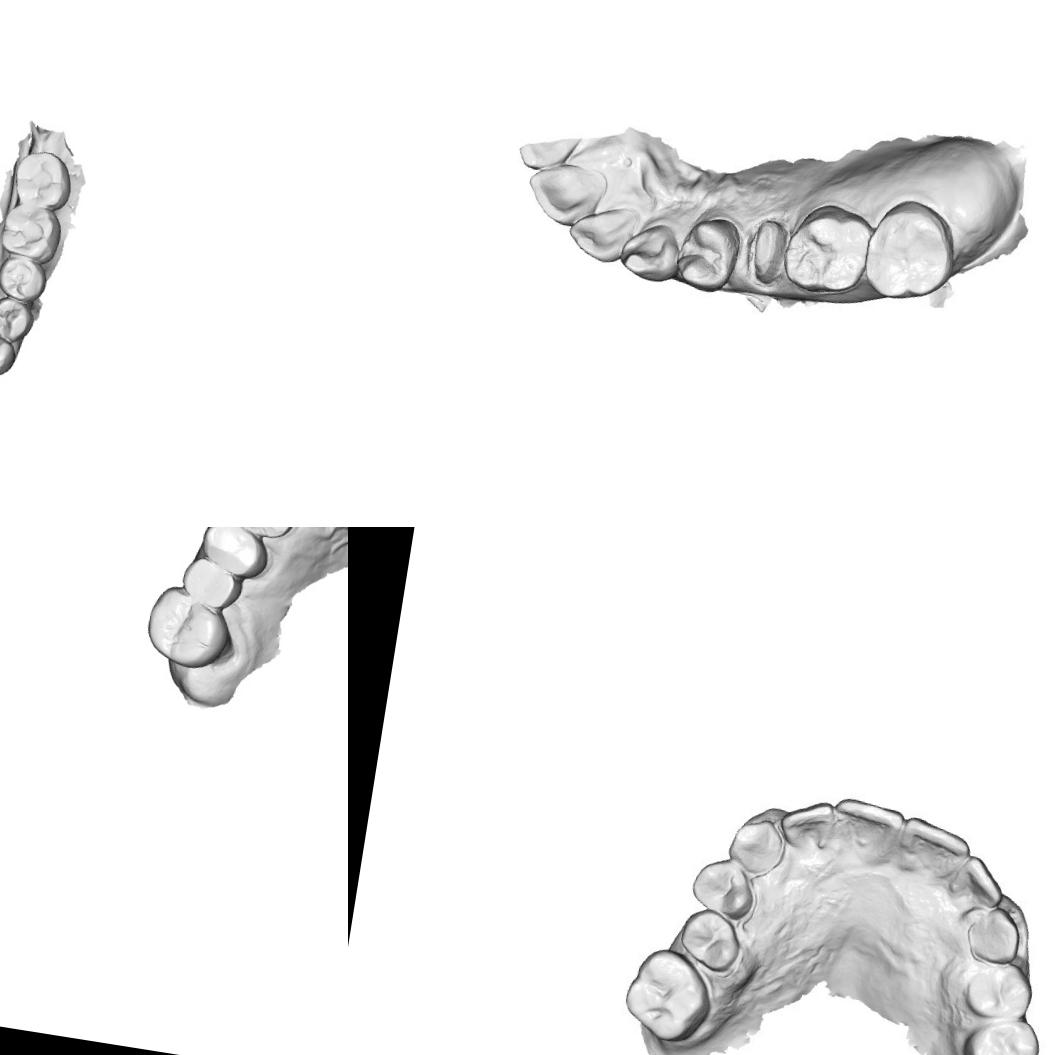canine: (618, 216, 685, 288), (962, 901, 1026, 969), (723, 814, 788, 880), (0, 330, 20, 382)
crown: (744, 212, 795, 286)
incisor: (518, 154, 611, 232), (826, 793, 906, 874), (894, 813, 974, 889), (564, 198, 644, 268), (950, 852, 1011, 919), (781, 797, 836, 862)
molar: (618, 943, 719, 1048), (864, 198, 960, 306), (136, 579, 240, 675), (783, 202, 874, 298), (7, 146, 78, 212), (176, 551, 248, 611), (0, 200, 65, 265)
premolar: (961, 954, 1040, 1026), (676, 212, 745, 293), (686, 852, 760, 924), (674, 904, 746, 977), (193, 527, 275, 582), (958, 1012, 1046, 1055), (0, 252, 49, 304), (0, 293, 35, 345), (230, 527, 302, 542)
